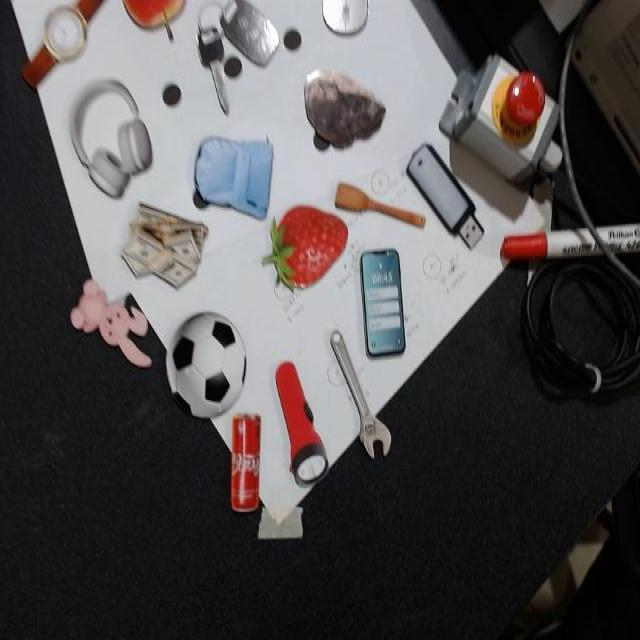Other Objects: (171, 0, 286, 116), (401, 136, 490, 258), (7, 0, 115, 93), (69, 77, 152, 197), (269, 353, 332, 490), (328, 328, 392, 460), (166, 313, 246, 418), (120, 200, 208, 289), (69, 277, 152, 368), (303, 68, 385, 149), (194, 137, 272, 220), (331, 179, 425, 243), (359, 248, 405, 357), (229, 412, 260, 512), (122, 0, 185, 29), (322, 1, 367, 34)
